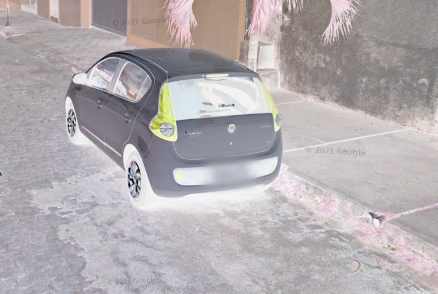car: (62, 42, 291, 209)
